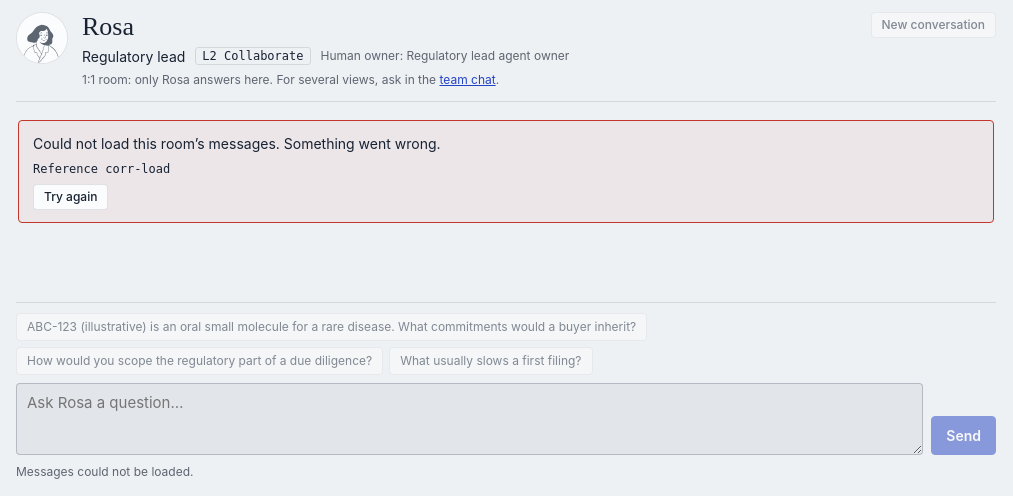
Test: ChatRoom › shows an error state with a retry when the messages cannot be loaded
Expected: the 1st message shows "Something went wrong.", [33,135,440,152]
Expected: the 1st message shows "corr-load", [105,162,170,176]
Click the button "Try again" at (71, 197), box [33,184,108,210]
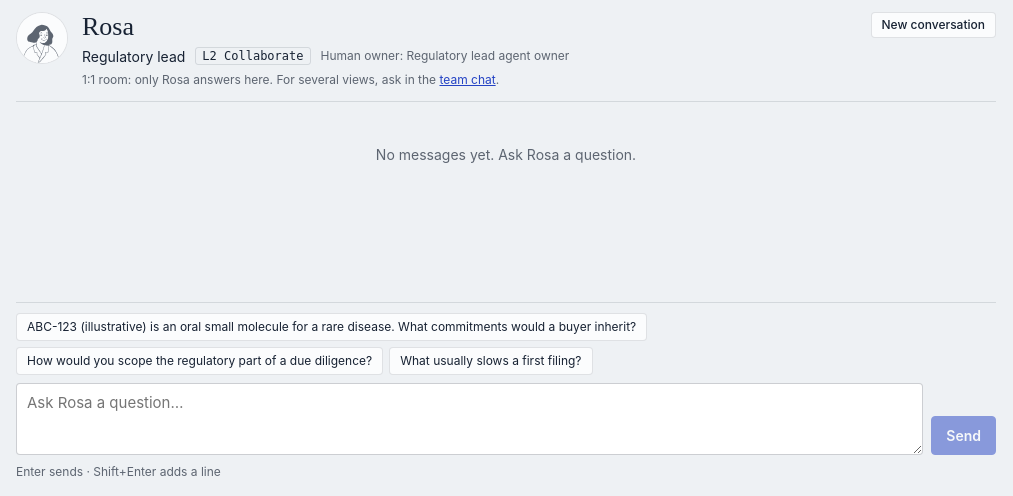
Result: the text "No messages yet. Ask Rosa a question." is shown at [376,146,636,163]
